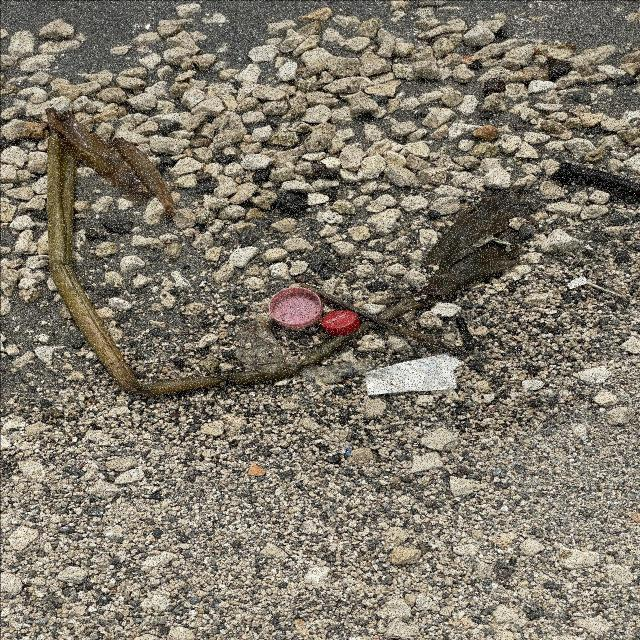plastic_waste: (269, 287, 323, 329), (322, 310, 362, 337)
